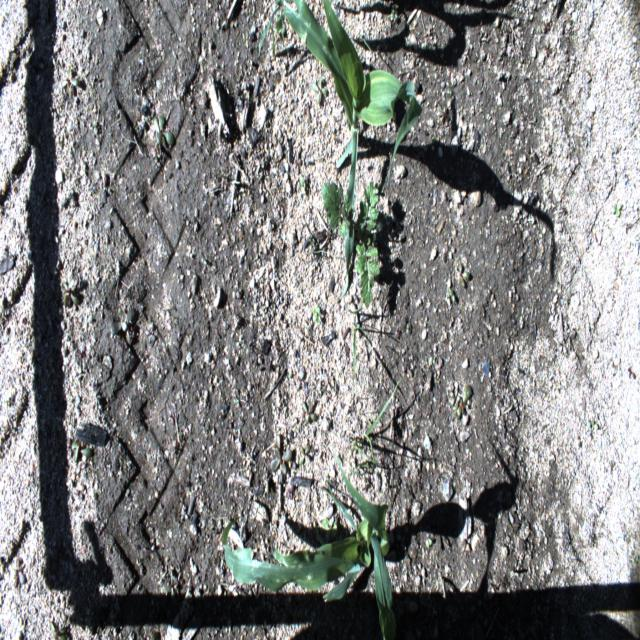crop: (258, 0, 422, 302), (222, 444, 396, 639)
weed: (321, 179, 382, 310), (348, 378, 401, 468)
